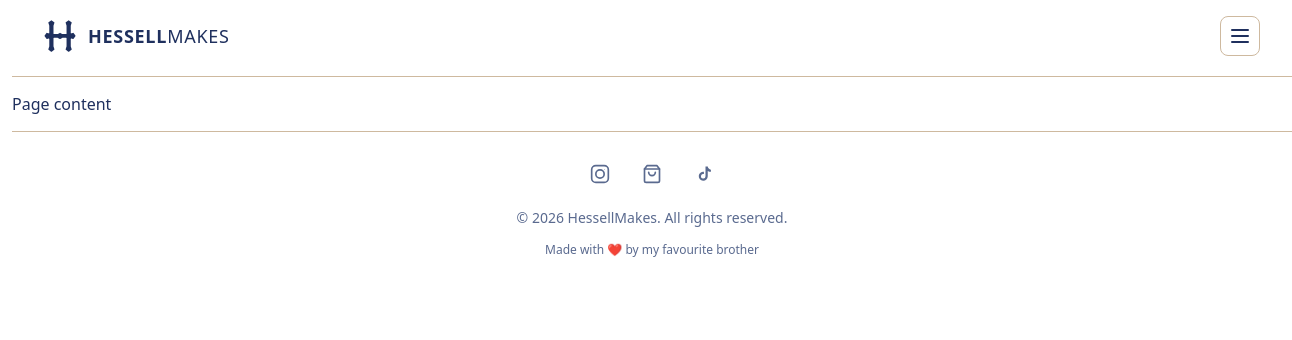
Test: AppLayout › opens the hamburger navigation menu and shows the nav links
Click the button named "open menu".
click(1240, 36)  # box [1220,16,1260,56]
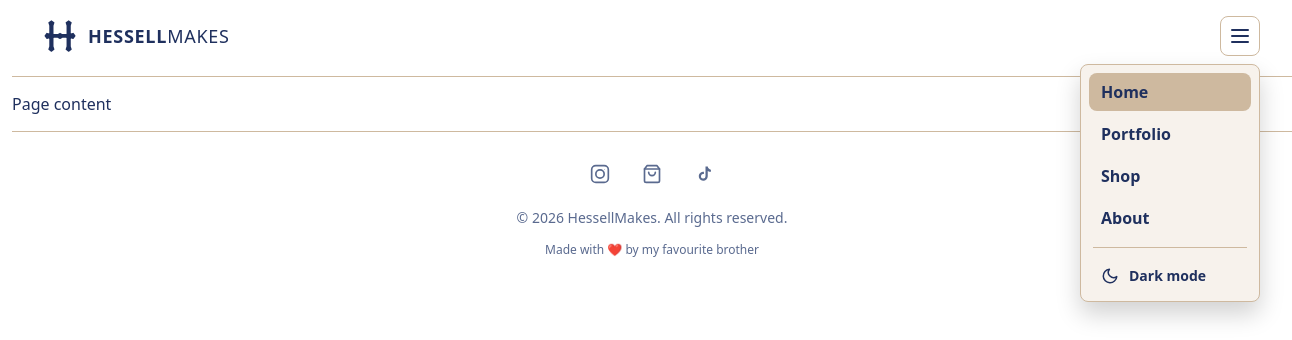
Expected: the link "Home" is shown, [1089,73,1251,111]
Expected: the link "Portfolio" is shown, [1101,123,1171,145]
